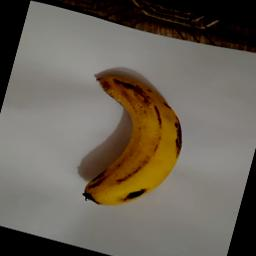Banana Unripe: (62, 66, 199, 224)
